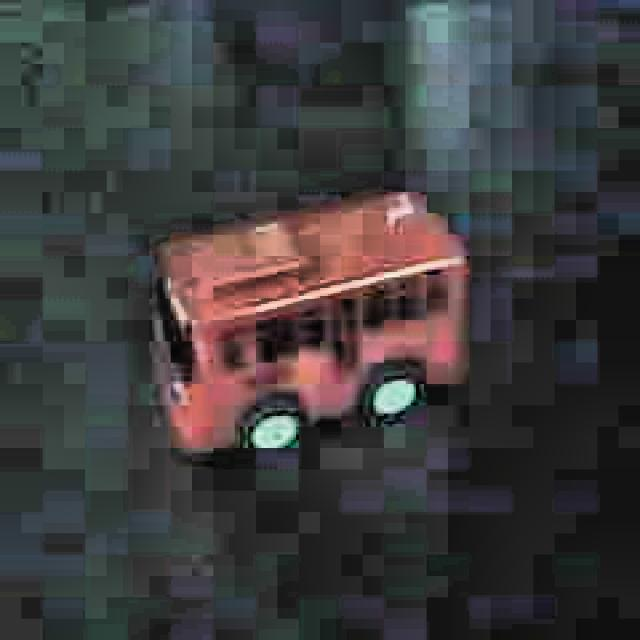bus: (140, 178, 477, 479)
